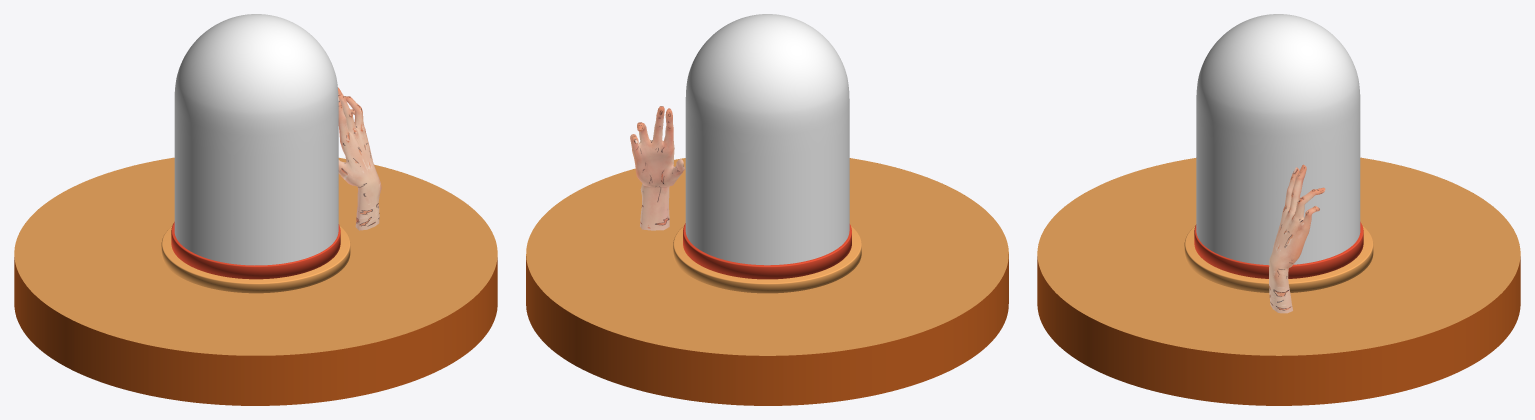
File: hand-jar.glb
The picture shows the model from 3 angles, left to right: view 1: azimuth 30°, elevation 25°; view 2: azimuth 150°, elevation 25°; view 3: azimuth 270°, elevation 25°; orthographic projection.
Visible parts, largest first — view 1: Circle, Sphere, Circle.003, Object_4, Circle.001, Circle.002; view 2: Circle, Sphere, Circle.003, Object_4, Circle.001, Circle.002; view 3: Circle, Sphere, Circle.003, Object_4, Circle.001, Circle.002.
Boxes of the visible parts, box(x1,y1,x2,y2) form: Circle: box(14, 157, 497, 355); Sphere: box(174, 14, 338, 265); Circle.003: box(14, 257, 497, 405); Object_4: box(338, 87, 381, 230); Circle.001: box(161, 226, 350, 293); Circle.002: box(171, 222, 340, 279); Circle: box(526, 158, 1008, 355); Sphere: box(685, 14, 849, 265); Circle.003: box(526, 254, 1008, 405); Object_4: box(630, 106, 685, 230); Circle.001: box(673, 226, 861, 293); Circle.002: box(683, 223, 851, 279); Circle: box(1037, 157, 1520, 355); Sphere: box(1196, 14, 1360, 265); Circle.003: box(1037, 256, 1520, 405); Object_4: box(1269, 164, 1325, 313); Circle.001: box(1184, 226, 1373, 292); Circle.002: box(1194, 222, 1363, 278).
Bounding box in the file's own units: 5.89 × 3.8 × 5.89.
6 materials, 1 textured.
